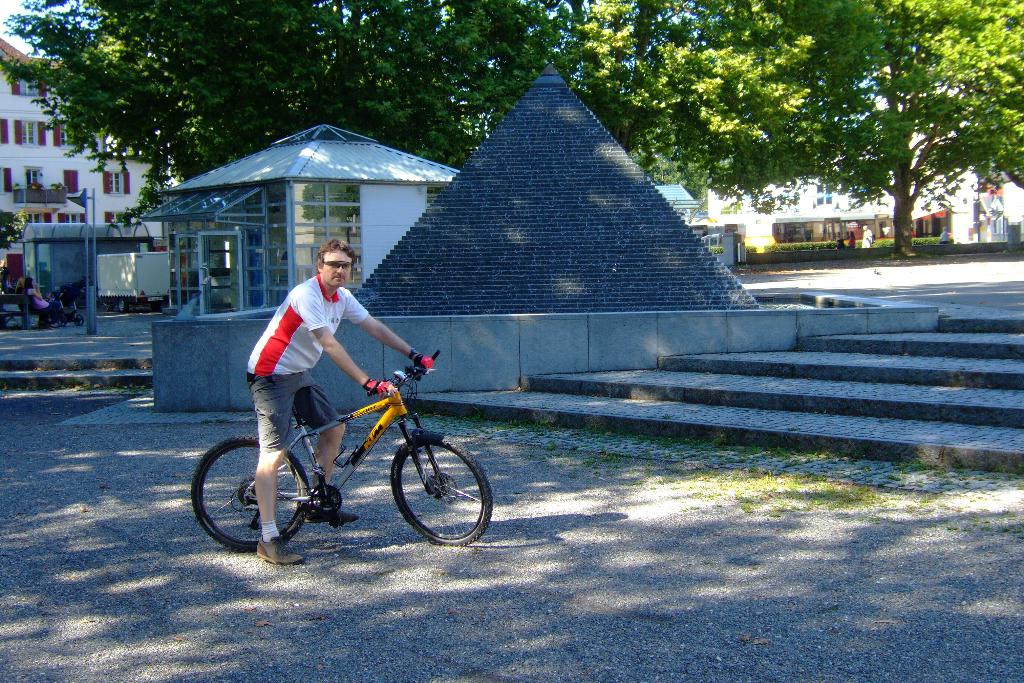Bike: (177, 359, 493, 545)
